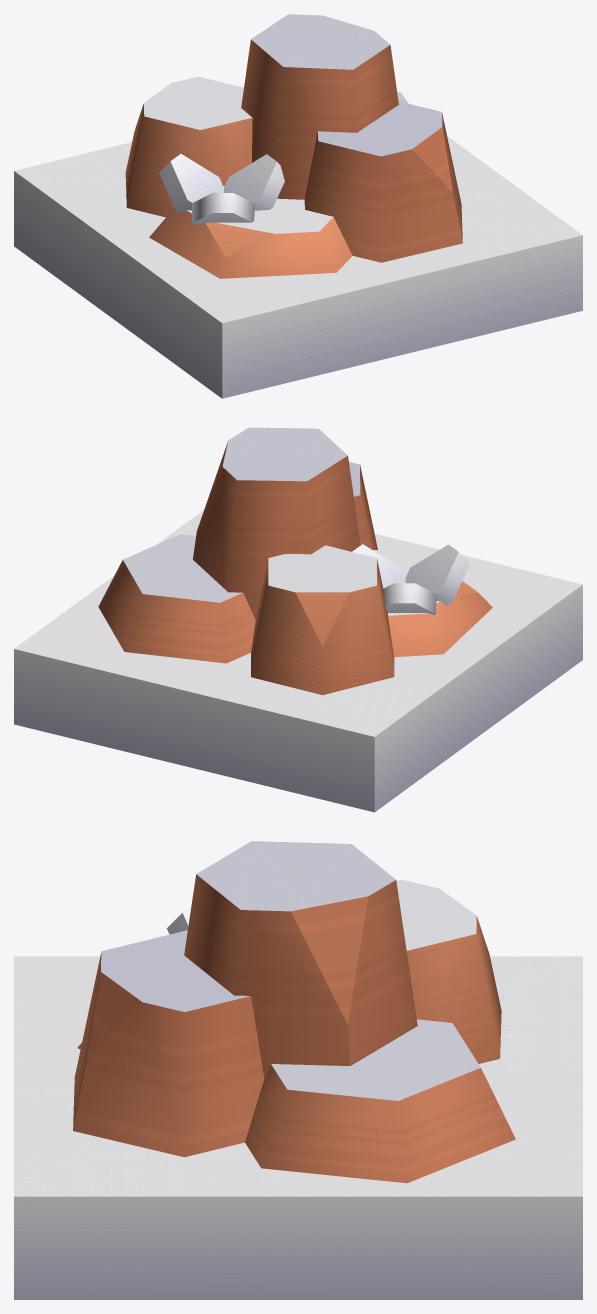
File: snow-tile-rock.glb
3 views of the same model, one above another, from view 1: azimuth 30°, elevation 25°; view 2: azimuth 150°, elevation 25°; view 3: azimuth 270°, elevation 25° (orthographic). The views are drawn at different scales.
Parts seen in each view (by area): view 1: snow-tile-rock; view 2: snow-tile-rock; view 3: snow-tile-rock.
Boxes of the visible parts, <box> form: snow-tile-rock: <box>14,14,582,398</box>; snow-tile-rock: <box>14,427,582,812</box>; snow-tile-rock: <box>14,841,582,1299</box>.
Bounding box in the file's own units: 3 × 1.84 × 3.
1 material, 1 textured.
